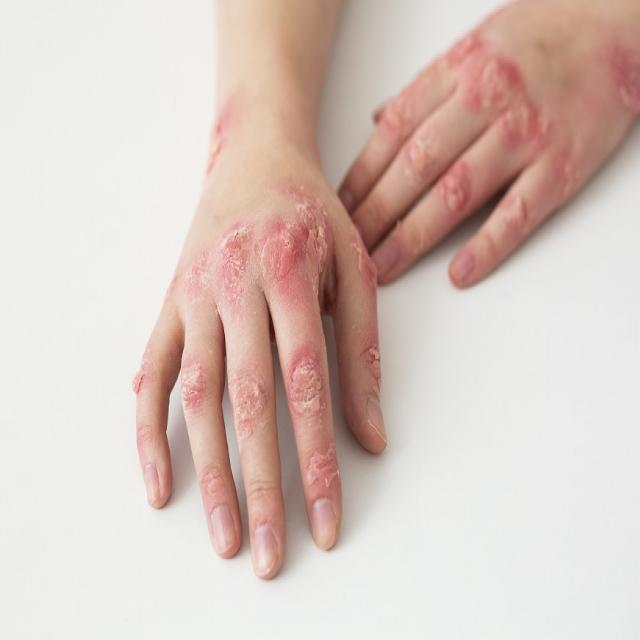eczema: (220, 186, 330, 279)
